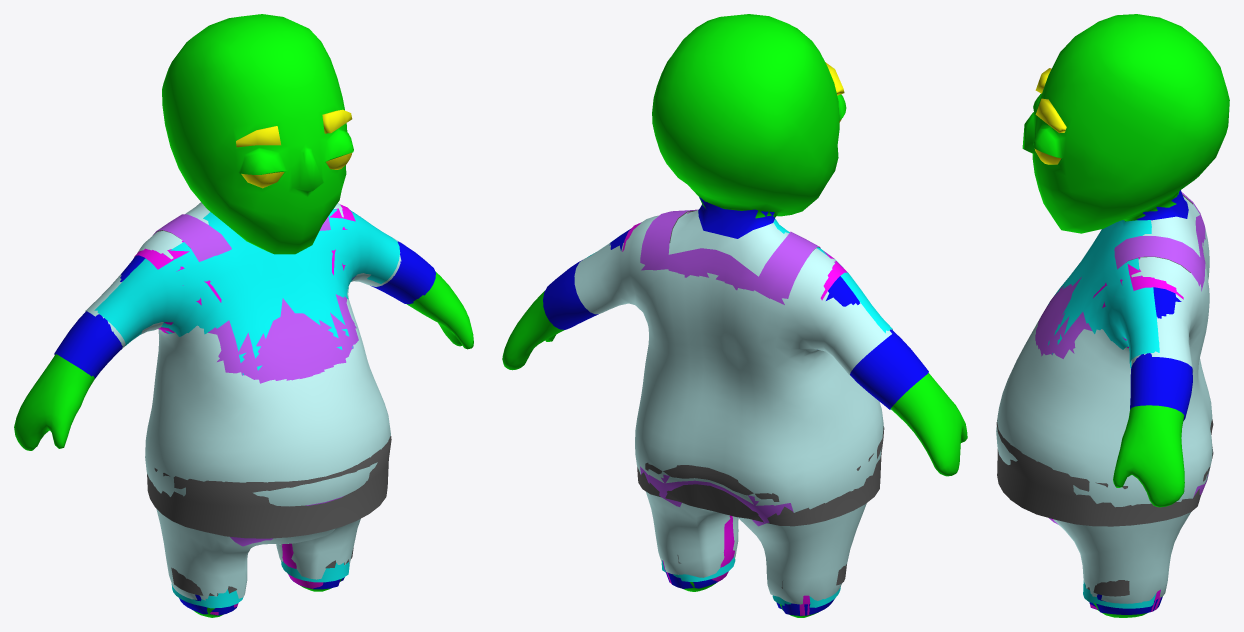
File: gordito_ropa.fbx
The picture shows the model from 3 angles, left to right: view 1: azimuth 30°, elevation 25°; view 2: azimuth 150°, elevation 25°; view 3: azimuth 270°, elevation 25°; orthographic projection. The views are drawn at different scales.
Visible parts, largest first — view 1: cuerpo2, futbol_americano, poker, baloncesto, standar, basball, ojos2, minero; view 2: futbol_americano, cuerpo2, basball, standar, baloncesto, poker, minero; view 3: cuerpo2, futbol_americano, poker, baloncesto, basball, standar, ojos2, minero.
Part boxes in pixels (box(x1,y1,x2,y2)): cuerpo2: box(14, 14, 473, 617); futbol_americano: box(85, 202, 401, 600); poker: box(94, 209, 399, 608); baloncesto: box(147, 230, 391, 595); standar: box(152, 214, 358, 546); basball: box(54, 210, 435, 615); ojos2: box(236, 109, 352, 188); minero: box(133, 204, 355, 615); futbol_americano: box(574, 209, 891, 604); cuerpo2: box(502, 14, 967, 617); basball: box(543, 197, 928, 615); standar: box(640, 209, 820, 526); baloncesto: box(637, 210, 884, 588); poker: box(585, 218, 892, 607); minero: box(622, 212, 847, 615); cuerpo2: box(1022, 14, 1229, 617); futbol_americano: box(996, 196, 1212, 603); poker: box(1048, 220, 1159, 608); baloncesto: box(996, 194, 1213, 596); basball: box(1089, 190, 1192, 614); standar: box(1035, 192, 1208, 524); ojos2: box(1034, 68, 1066, 164); minero: box(1090, 257, 1183, 611).
Size of the model in its own units: 144 by 178 by 66.47.
